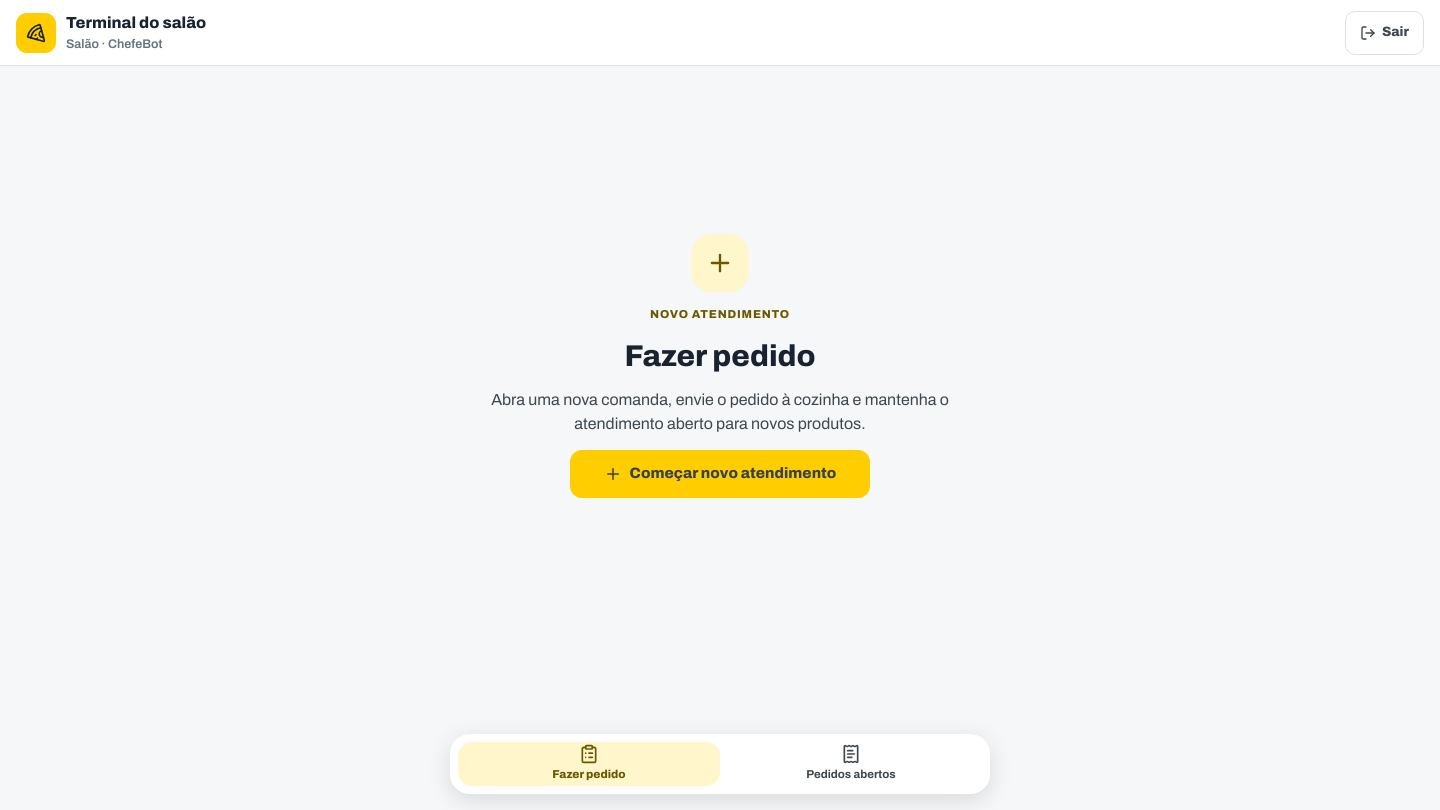
Test case: /salao — pedido primeiro, nome no final › não pede nome na abertura e permite ir aos produtos
What coordinates should you click on to do the following:
click the button "Começar novo atendimento"
I would click on:
 (720, 474)
Its box is [570,450,870,498].
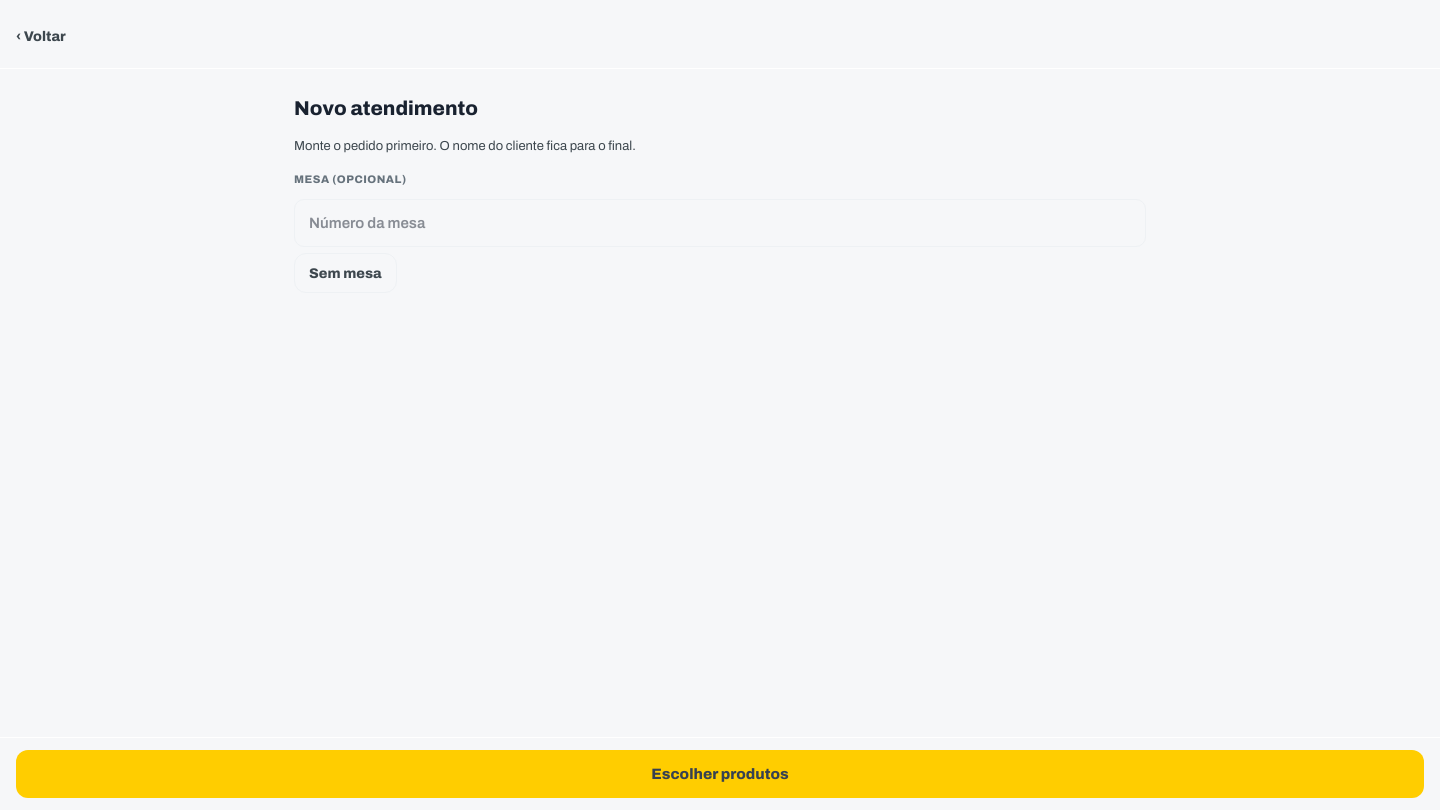
Now the text "Monte o pedido primeiro. O nome do cliente fica para o final." is shown, box [294,139,636,153]
Now the button "Escolher produtos" is enabled, box [16,750,1424,798]
